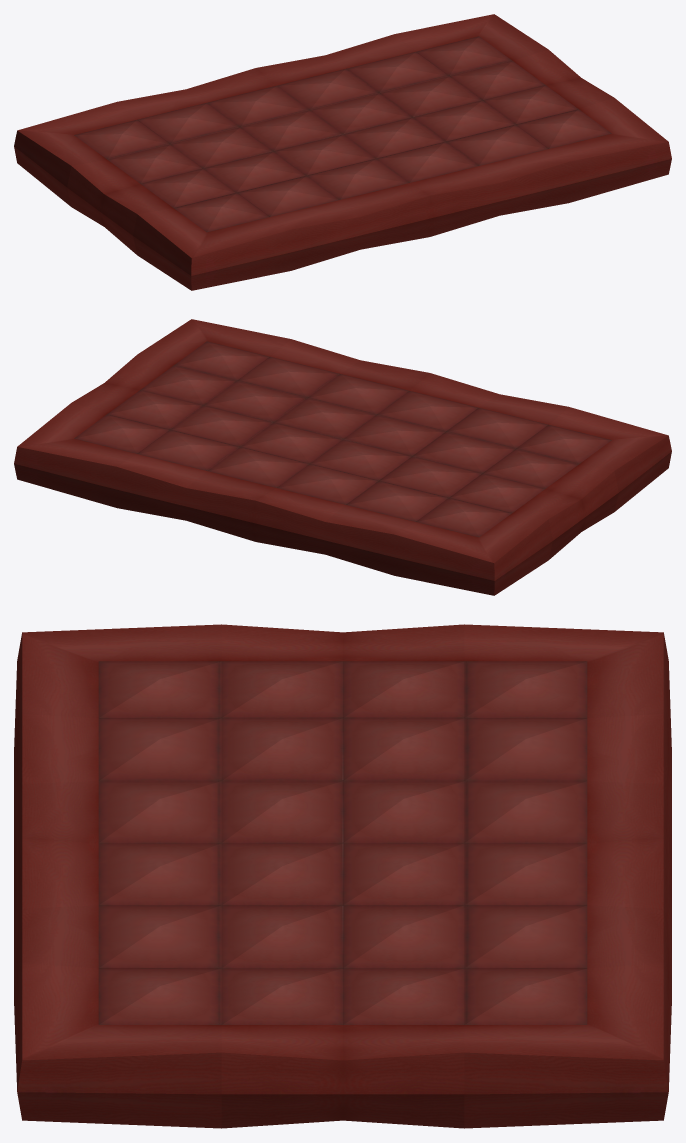
The model's file is NNJ0810015.fbx.
3 views of the same model, one above another, from view 1: azimuth 30°, elevation 25°; view 2: azimuth 150°, elevation 25°; view 3: azimuth 270°, elevation 25° (orthographic). The views are drawn at different scales.
Parts seen in each view (by area): view 1: smNNJ0810015; view 2: smNNJ0810015; view 3: smNNJ0810015.
Boxes of the visible parts, x1,y1,x2,y2 form: smNNJ0810015: (14,14,671,290); smNNJ0810015: (14,319,671,595); smNNJ0810015: (14,624,671,1128).
Size of the model in its own units: 425 by 39.91 by 271.
Materials: 1 (1 with a texture image).
